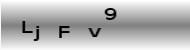9: (103, 7, 116, 21)
F: (57, 25, 71, 39)
L: (21, 20, 34, 34)
j: (33, 25, 40, 41)
v: (87, 26, 102, 38)
